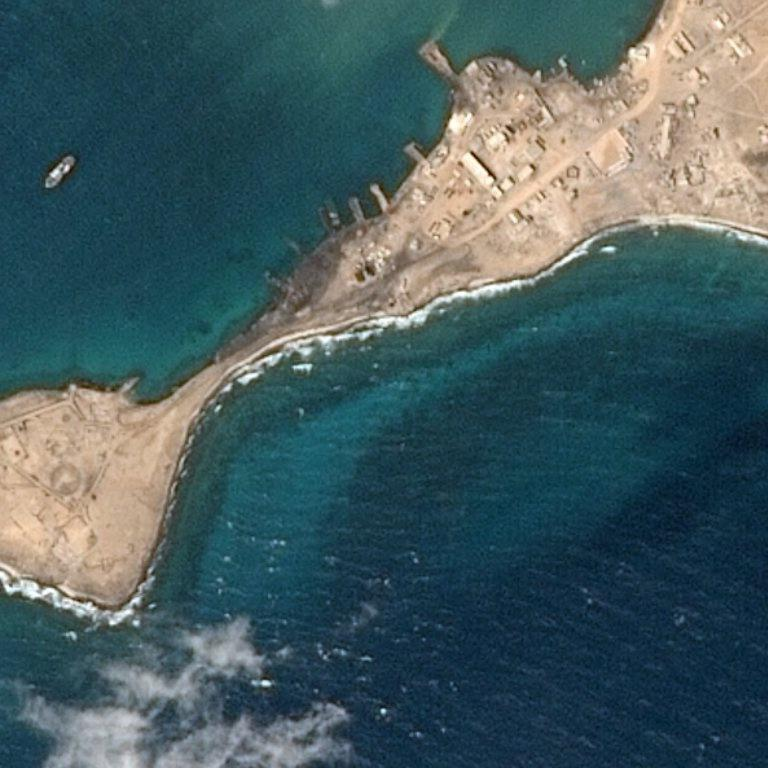ship: (43, 154, 77, 190), (44, 184, 50, 189), (66, 1, 71, 4), (73, 158, 76, 162)
